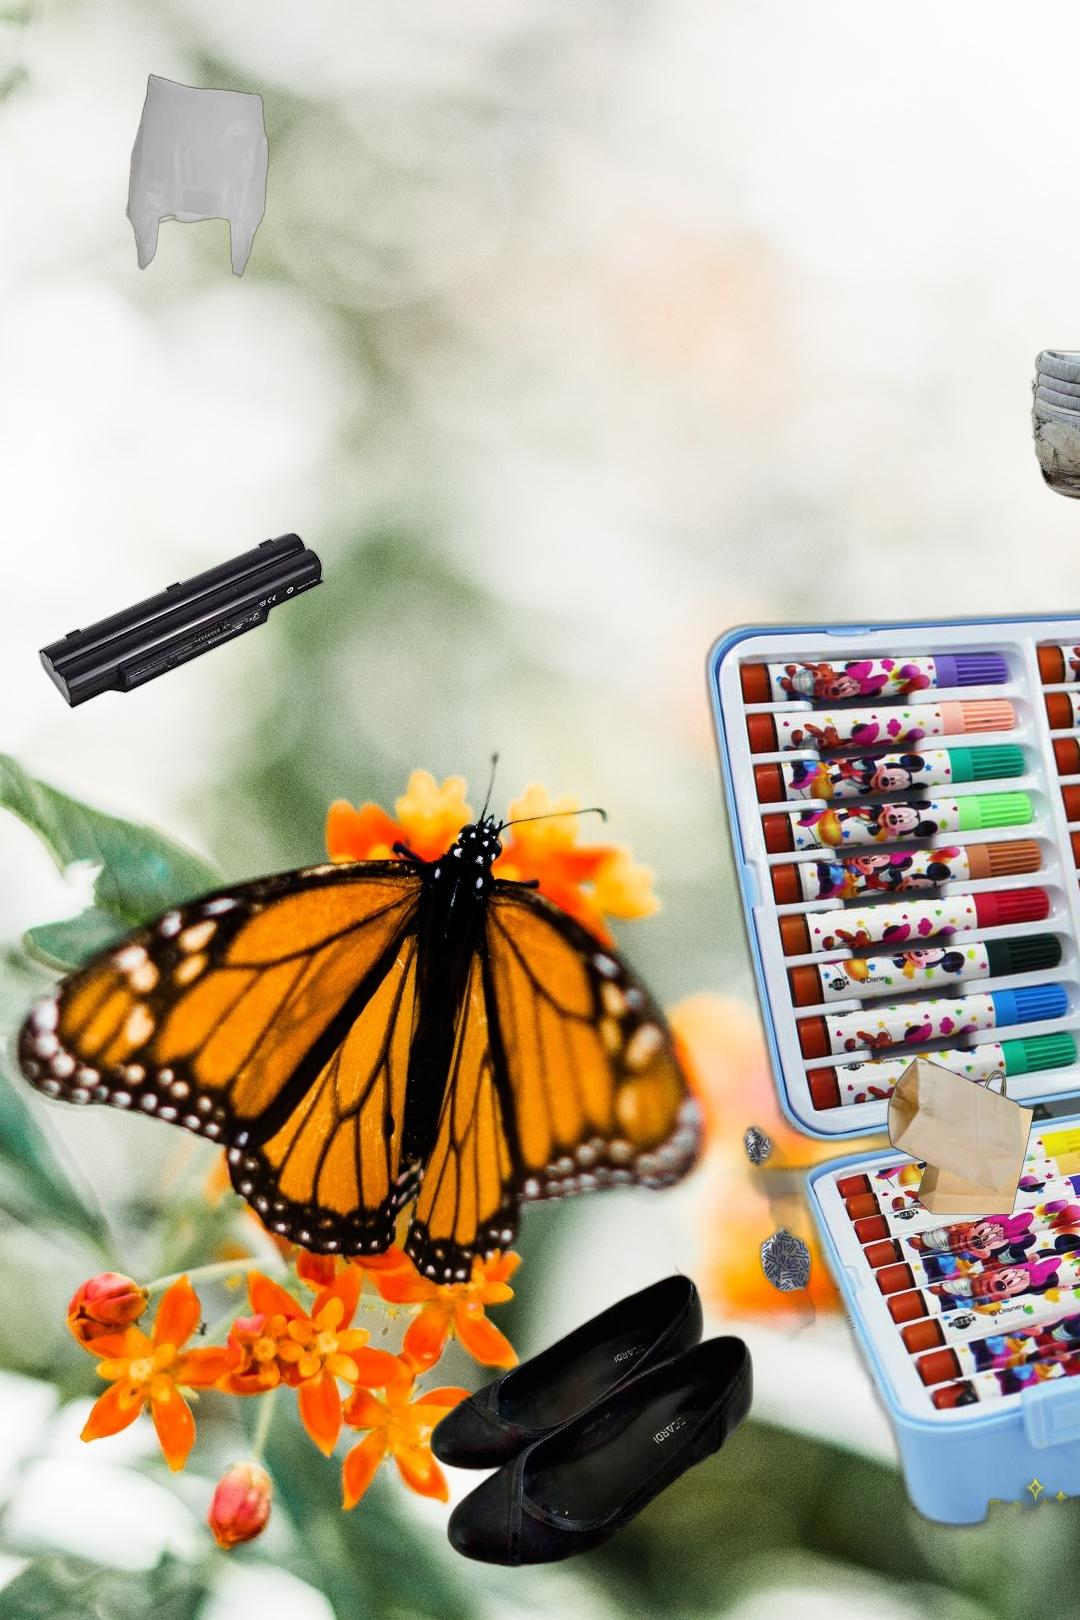battery: (39, 533, 325, 709)
paper: (740, 1094, 820, 1348)
paper-bag: (885, 1053, 1037, 1216)
penholder: (692, 594, 1080, 1534), (164, 1600, 964, 1620)
plastic-bag: (123, 74, 270, 280)
shoes: (425, 1262, 757, 1571), (1031, 336, 1080, 509)
